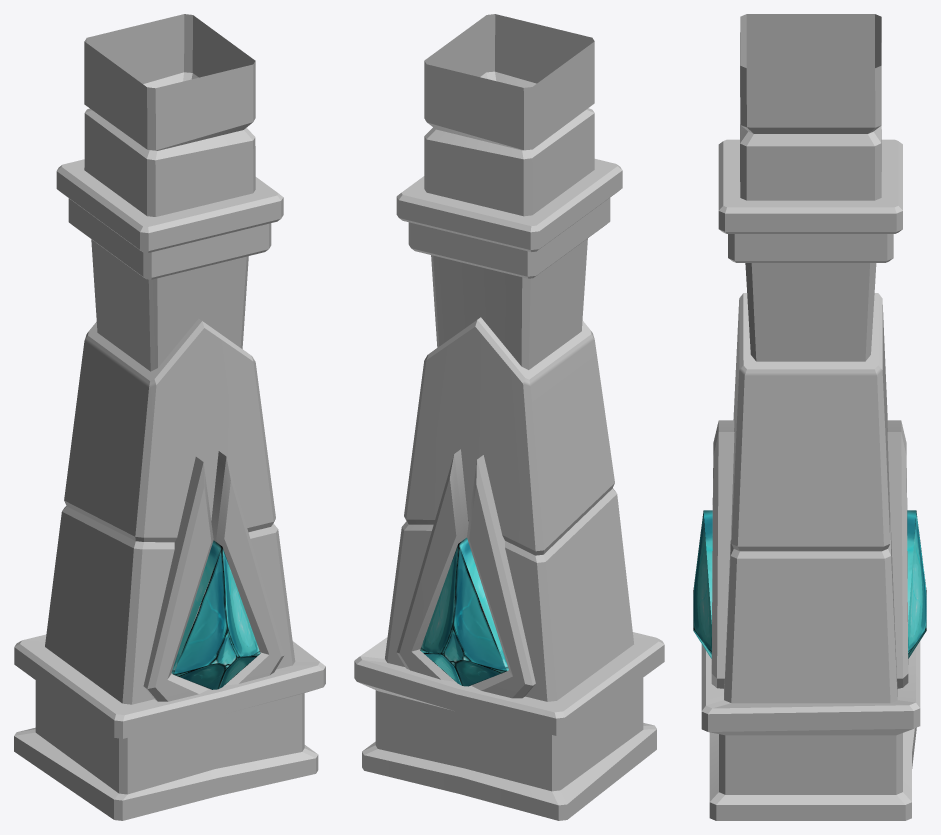
File: Moonset_FBX_wall_04_Pillar_1.fbx
The picture shows the model from 3 angles, left to right: view 1: azimuth 30°, elevation 25°; view 2: azimuth 150°, elevation 25°; view 3: azimuth 270°, elevation 25°; orthographic projection. The views are drawn at different scales.
Visible parts, largest first — view 1: Wall_4_Gem_Pillar; view 2: Wall_4_Gem_Pillar; view 3: Wall_4_Gem_Pillar.
Boxes of the visible parts, left/top/right/bottom form: Wall_4_Gem_Pillar: left=14, top=14, right=325, bottom=820; Wall_4_Gem_Pillar: left=354, top=14, right=664, bottom=820; Wall_4_Gem_Pillar: left=693, top=14, right=926, bottom=820.
Bounding box in the file's own units: 2.11 × 6.74 × 1.96.
